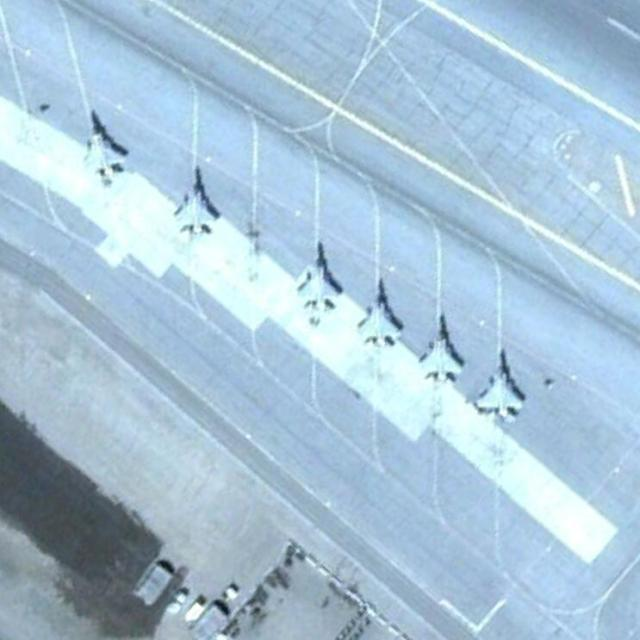fighter jet: (170, 168, 220, 240), (415, 316, 466, 386), (296, 245, 342, 322), (475, 352, 524, 420), (357, 283, 402, 347)
